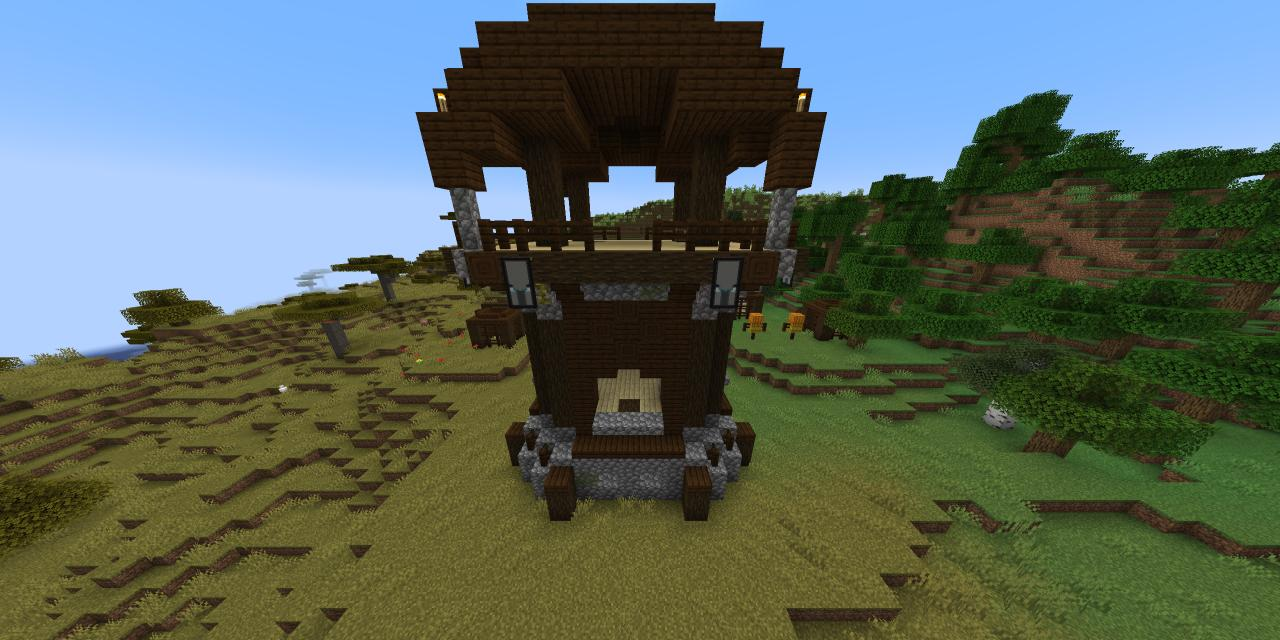pillager outpost: (412, 0, 837, 533)
